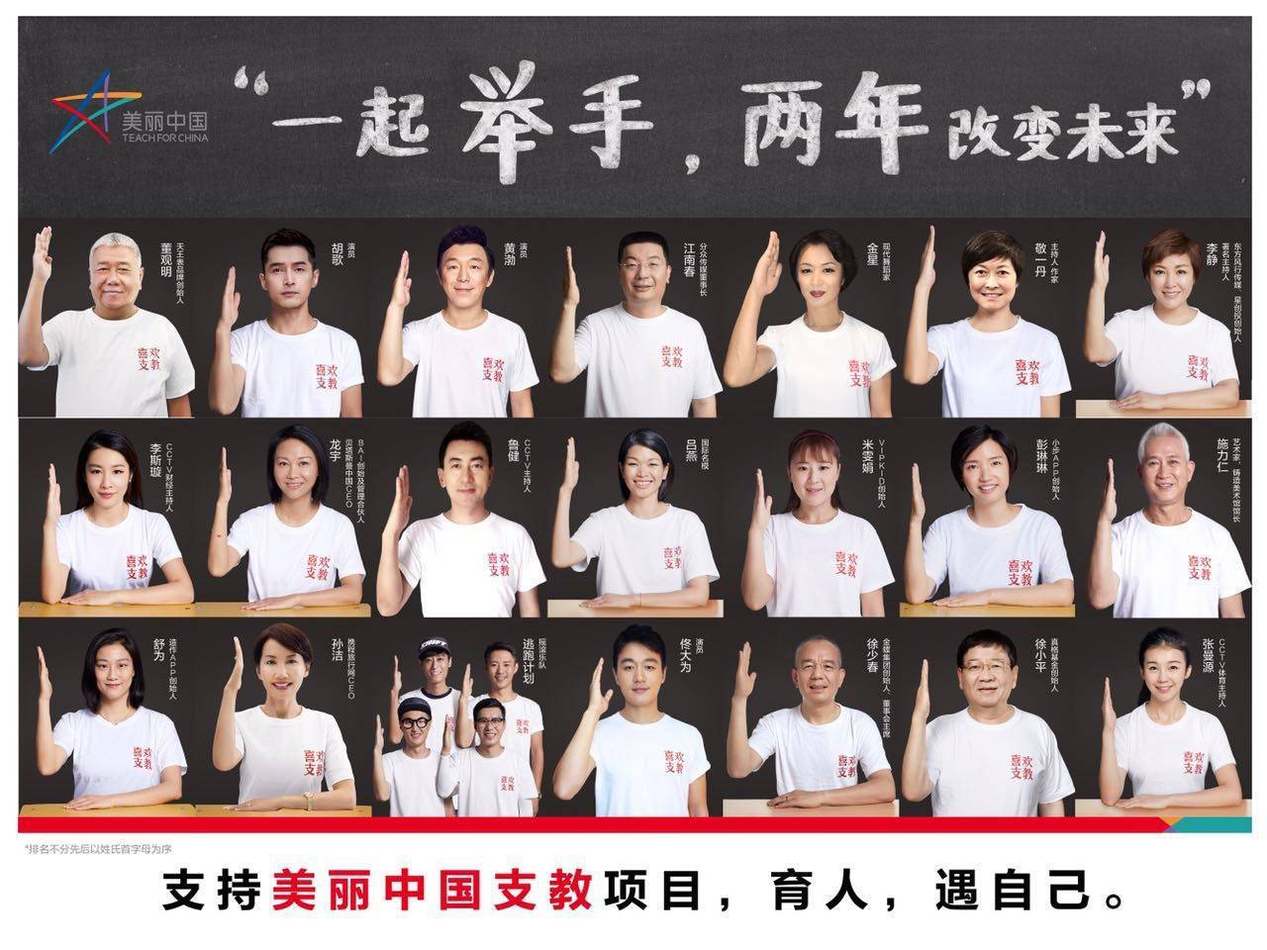handsup: (553, 216, 726, 423), (23, 222, 196, 420), (903, 431, 1076, 629), (738, 216, 905, 417), (1084, 219, 1249, 420), (204, 220, 370, 418), (903, 640, 1072, 831), (379, 220, 540, 420), (21, 624, 182, 821), (919, 216, 1070, 423), (383, 435, 543, 626), (203, 435, 373, 614), (558, 633, 714, 824), (24, 429, 190, 606), (729, 633, 893, 812), (203, 630, 364, 812), (1094, 431, 1245, 624), (556, 437, 717, 615), (734, 435, 886, 620), (1090, 633, 1243, 812)
